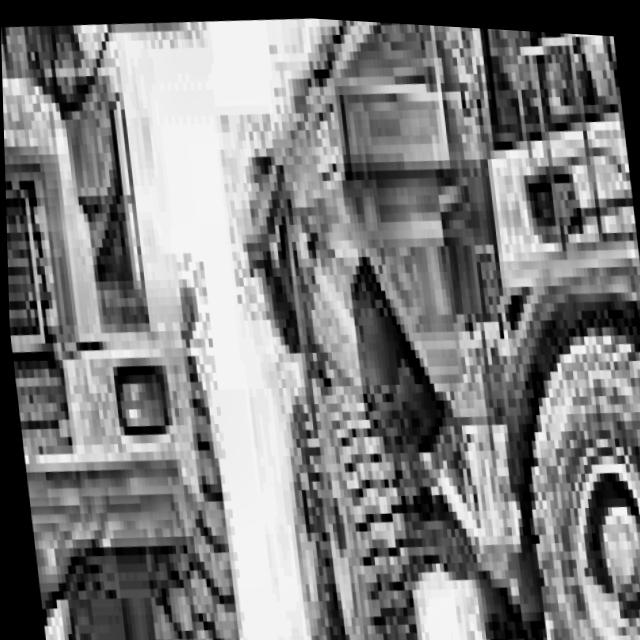dump_truck: (208, 10, 640, 640), (0, 10, 264, 640)
